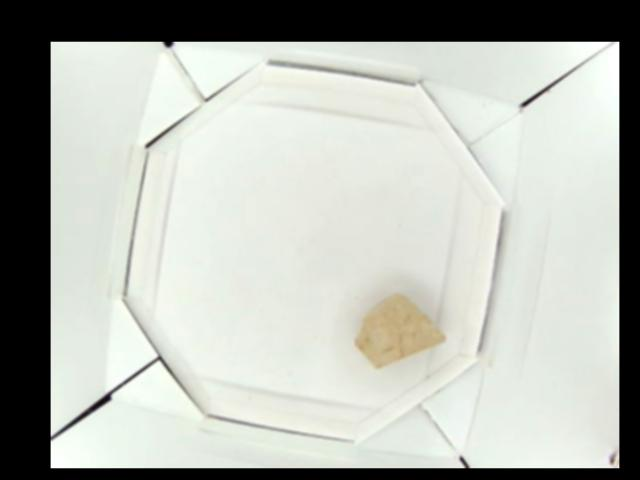China: (355, 294, 447, 366)
